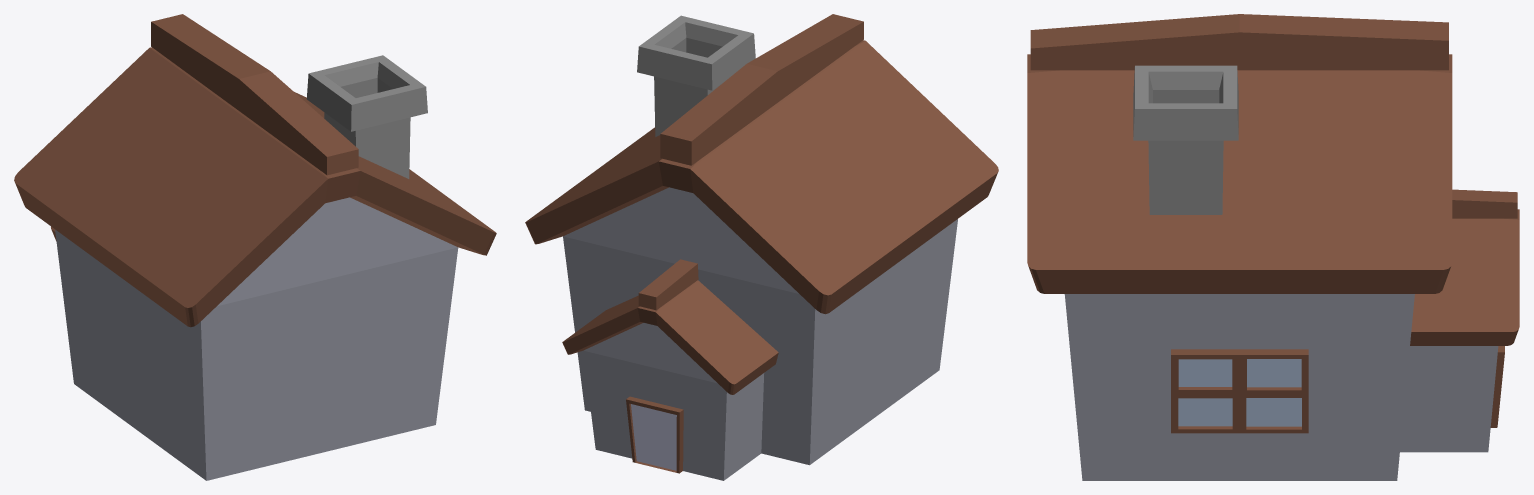
3 views of the same model, side by side, from view 1: azimuth 30°, elevation 25°; view 2: azimuth 150°, elevation 25°; view 3: azimuth 270°, elevation 25° (orthographic). The views are drawn at different scales.
Parts seen in each view (by area): view 1: Plane, Cube.002; view 2: Plane, Plane.001, Cube.002, Cube; view 3: Plane, Plane.001, Cube.002, Cube.001, Cube.
Part boxes in pixels (box(x1,y1,x2,y2)): Plane: box(14, 14, 496, 480); Cube.002: box(306, 55, 427, 178); Plane: box(525, 14, 998, 465); Plane.001: box(562, 259, 778, 480); Cube.002: box(637, 15, 755, 136); Cube: box(626, 396, 683, 473); Plane: box(1027, 14, 1452, 480); Plane.001: box(1400, 189, 1519, 452); Cube.002: box(1133, 65, 1238, 214); Cube.001: box(1171, 349, 1308, 433); Cube: box(1490, 346, 1504, 427).
Size of the model in its own units: 2.93 by 2.97 by 3.39.
